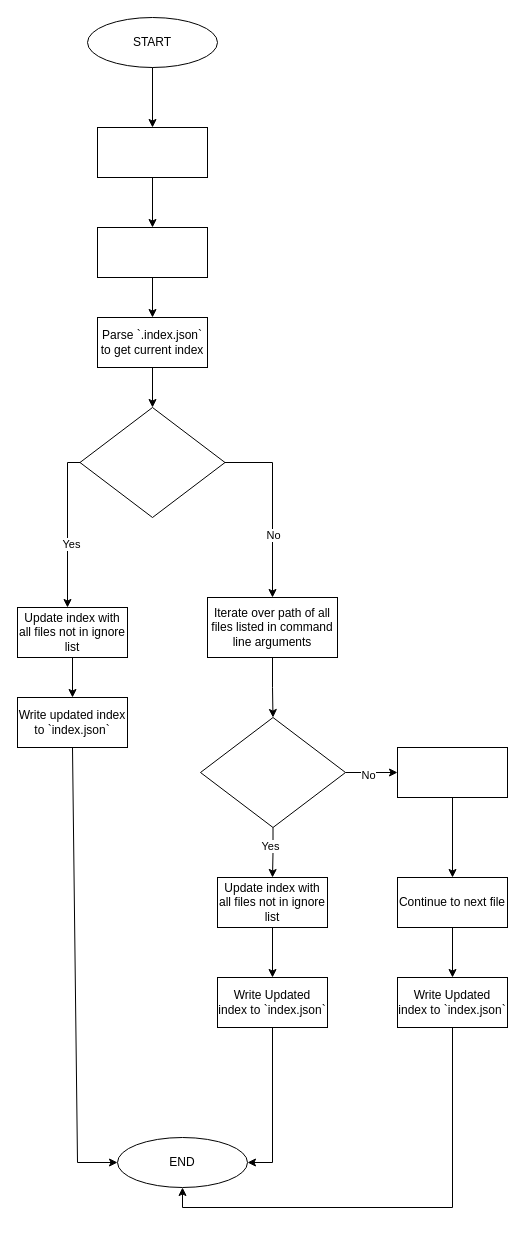
Some shapes in this 525 by 1233 pixel diagram are drawn without their labels. The box of each missing label's shape, as (x1, y1, x2, y2) in pixels:
Check if path fo r every file exists: (200, 716, 346, 828)
Get Current Directory: (96, 126, 208, 178)
Is `-all` option set ?: (79, 406, 225, 518)
Log "Path not found": (396, 746, 508, 798)
Parse `.ignorewit.json` to get ignore list: (96, 226, 208, 278)
